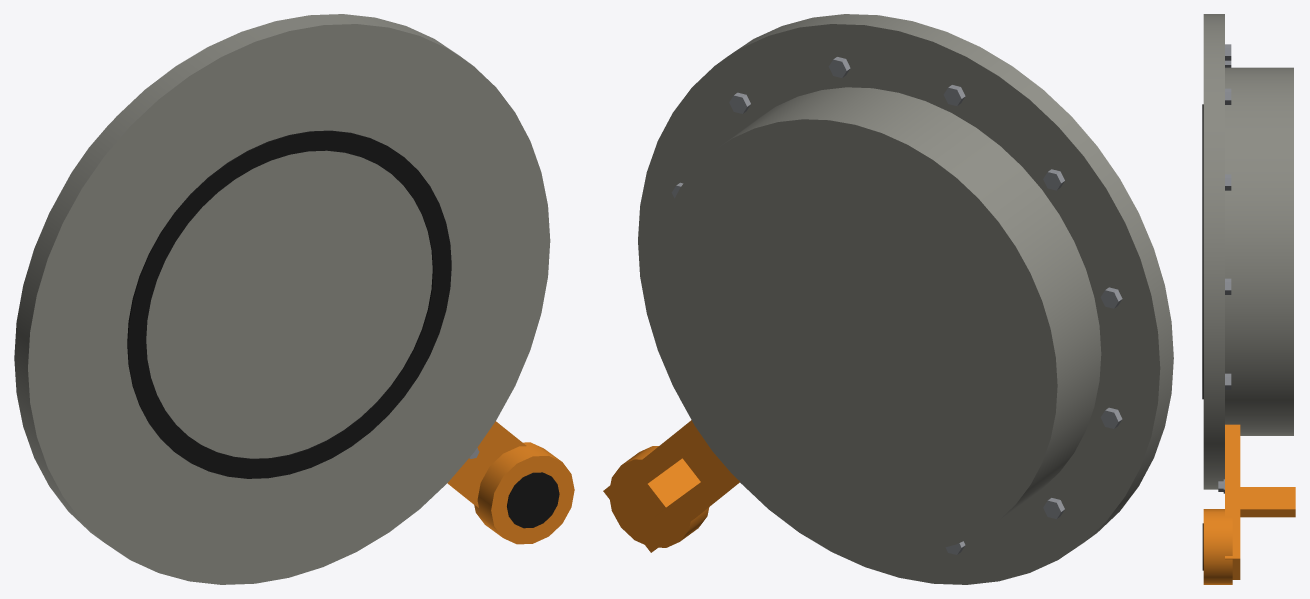
Rendered from bunk500_flange_aft.obj.
3 views of the same model, side by side, from view 1: azimuth 30°, elevation 25°; view 2: azimuth 150°, elevation 25°; view 3: azimuth 270°, elevation 25° (orthographic). The views are drawn at different scales.
Visible parts, largest first — view 1: bunk500_flange_aft; view 2: bunk500_flange_aft; view 3: bunk500_flange_aft.
Part boxes in pixels (bbox=[...]): bunk500_flange_aft: bbox=[14, 14, 574, 584]; bunk500_flange_aft: bbox=[603, 14, 1173, 584]; bunk500_flange_aft: bbox=[1202, 14, 1295, 584].
Size of the model in its own units: 3.25 by 3.25 by 0.6072.
